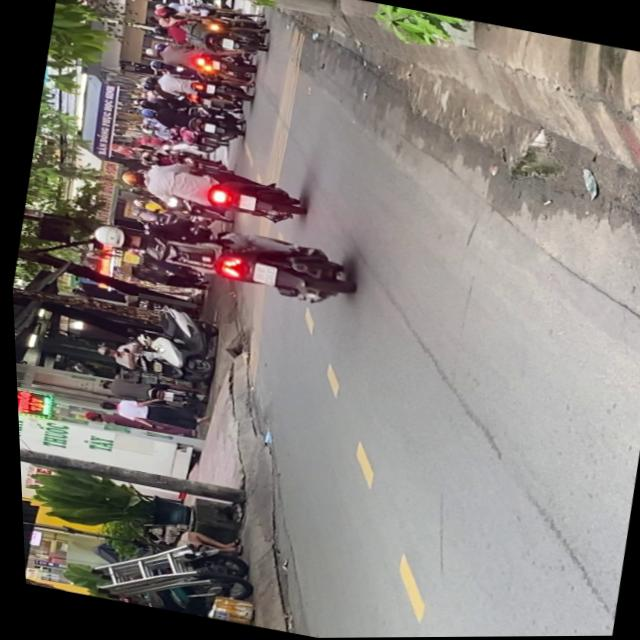helmet: (88, 222, 137, 254), (117, 170, 144, 188)
licenseplate: (82, 201, 356, 314), (113, 150, 307, 232)
nohelmet: (249, 262, 275, 286), (235, 194, 254, 211)
